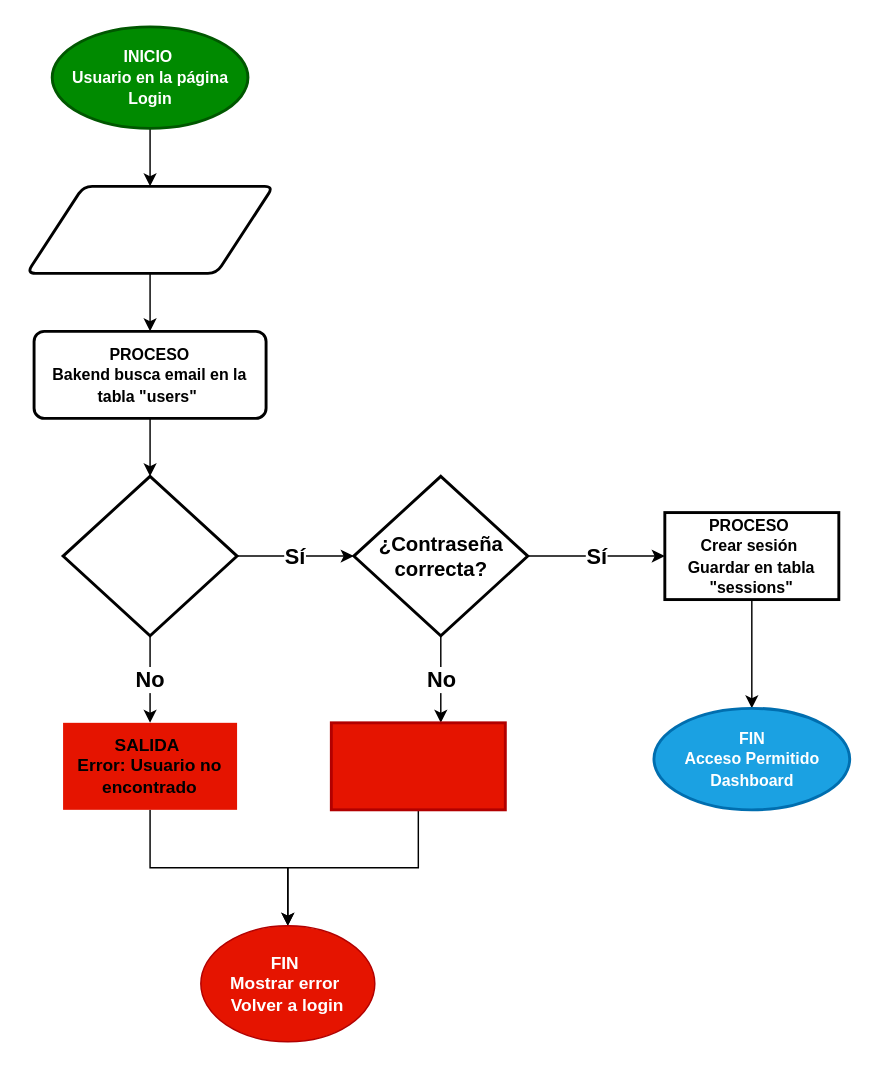
The diagram is 876 pixels wide and 1067 high, and some of its shapes have lost their labels. The shapes that lost their labels are listed below. From the top down, each one's centre as x and y in pixels, then its label:
At (x=149, y=229): "ENTRADA Email y Contraseña".
At (x=149, y=555): "¿El usuario existe?".
At (x=417, y=766): "SALIDA Error: Contraseña incorrecta".
